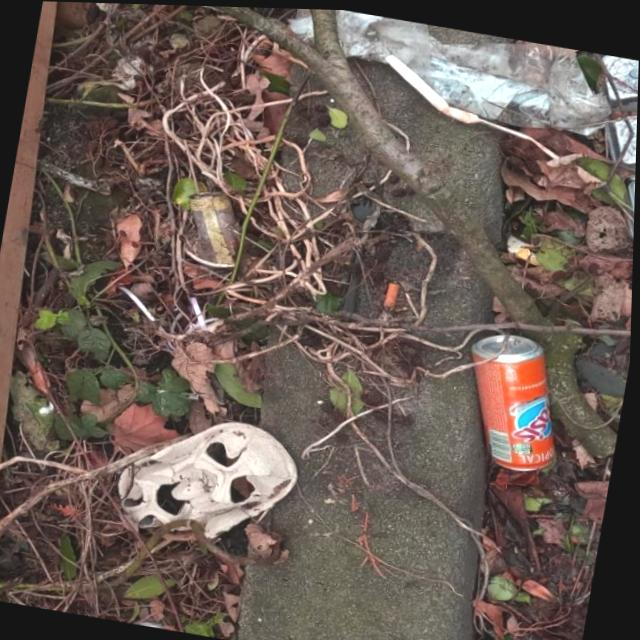Can-Metal: (450, 324, 577, 478)
Cup: (176, 184, 250, 272)
